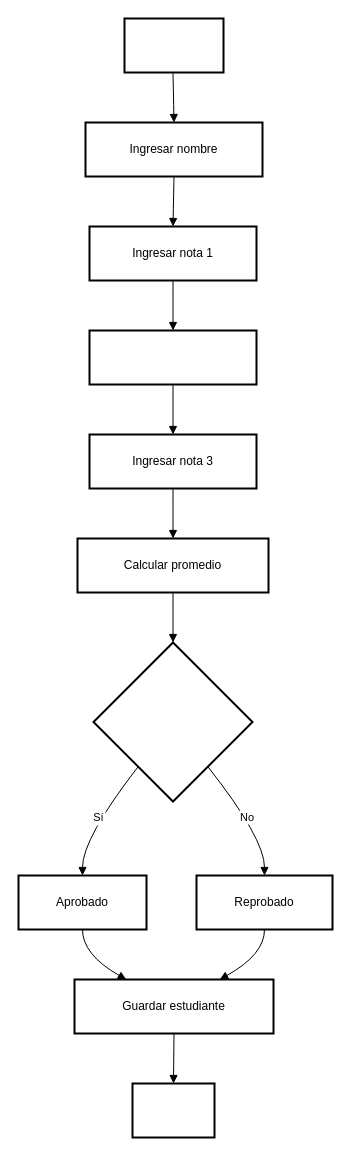
The diagram is 350 pixels wide and 1155 high, and some of its shapes have lost their labels. Each missing label, with the centre of its shape:
"Fin" goes at pixel 173 1110.
"Ingresar nota 2" goes at pixel 172 357.
"Inicio" goes at pixel 173 45.
"¿Promedio ≥ 7?" goes at pixel 172 721.
